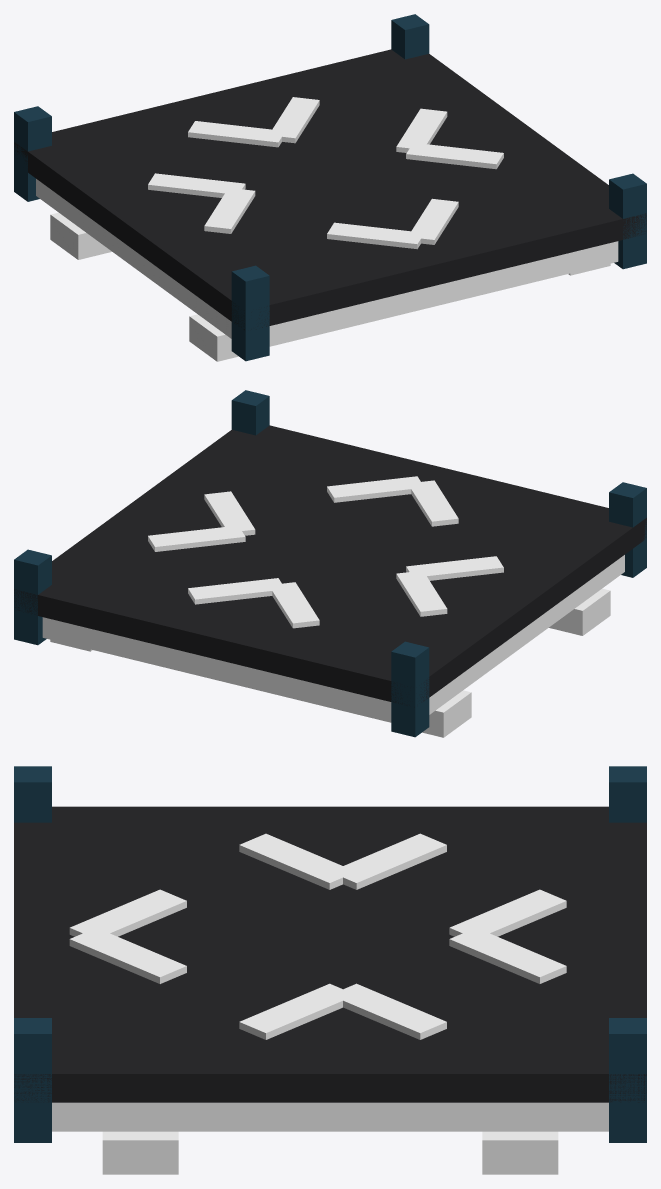
The model's file is belt_triple.obj.
3 views of the same model, one above another, from view 1: azimuth 30°, elevation 25°; view 2: azimuth 150°, elevation 25°; view 3: azimuth 270°, elevation 25° (orthographic). The views are drawn at different scales.
Visible parts, largest first — view 1: Belt; view 2: Belt; view 3: Belt.
Part boxes in pixels (x1,y1,x2,y2): Belt: (14, 14, 646, 361); Belt: (14, 390, 646, 737); Belt: (14, 766, 646, 1174).
Bounding box in the file's own units: 1 × 0.25 × 1.
